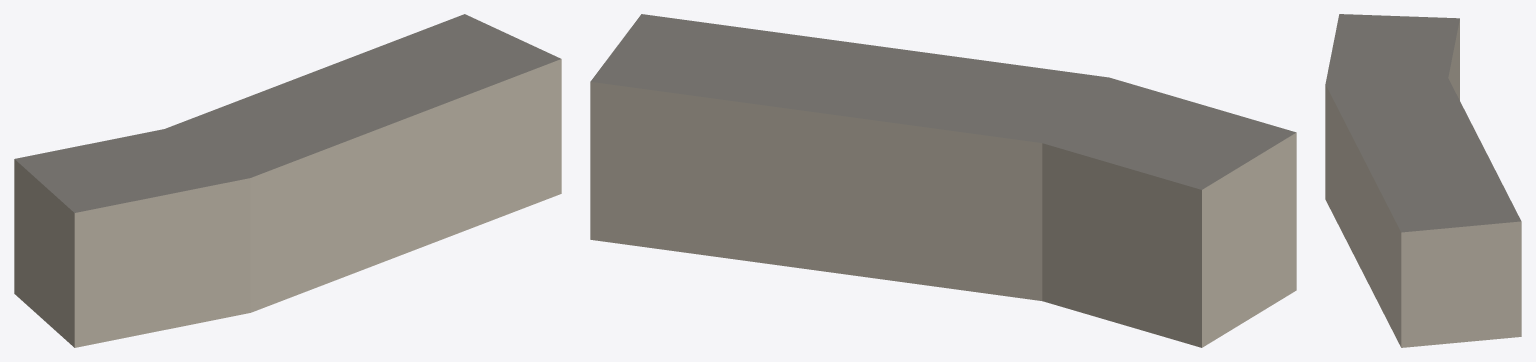
3 views of the same model, side by side, from view 1: azimuth 30°, elevation 25°; view 2: azimuth 150°, elevation 25°; view 3: azimuth 270°, elevation 25° (orthographic). The views are drawn at different scales.
Visible parts, largest first — view 1: HP-w1286957246; view 2: HP-w1286957246; view 3: HP-w1286957246.
Part boxes in pixels (x1,y1,x2,y2): HP-w1286957246: (14,14,561,347); HP-w1286957246: (590,14,1296,347); HP-w1286957246: (1325,14,1521,347).
Bounding box in the file's own units: 73.05 × 18 × 27.7.
